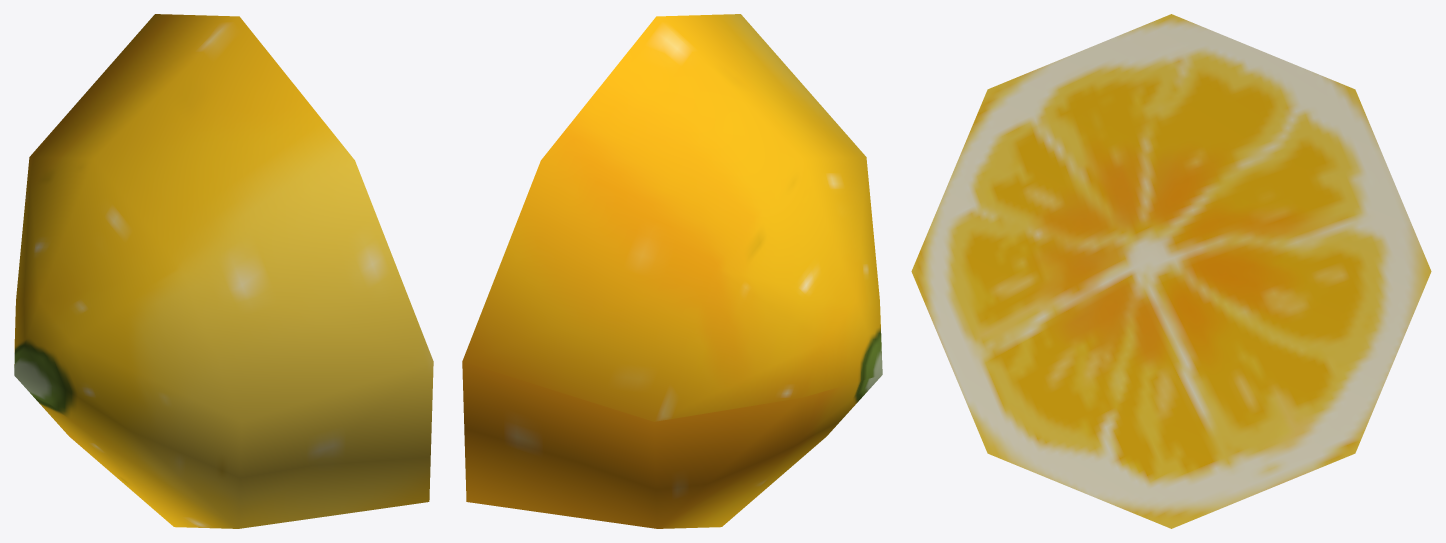
File: SM_PROP_food_lemon_03.FBX
3 views of the same model, side by side, from view 1: azimuth 30°, elevation 25°; view 2: azimuth 150°, elevation 25°; view 3: azimuth 270°, elevation 25° (orthographic). The views are drawn at different scales.
Visible parts, largest first — view 1: SM_PROP_food_lemon_03; view 2: SM_PROP_food_lemon_03; view 3: SM_PROP_food_lemon_03.
Boxes of the visible parts, bbox=[...] form: SM_PROP_food_lemon_03: bbox=[14, 14, 433, 528]; SM_PROP_food_lemon_03: bbox=[462, 14, 882, 528]; SM_PROP_food_lemon_03: bbox=[911, 14, 1431, 528].
Bounding box in the file's own units: 9.55 × 14.13 × 14.02.
